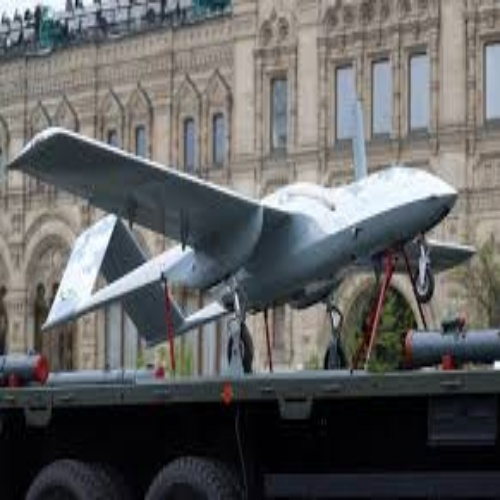uav36: (7, 122, 484, 368)
